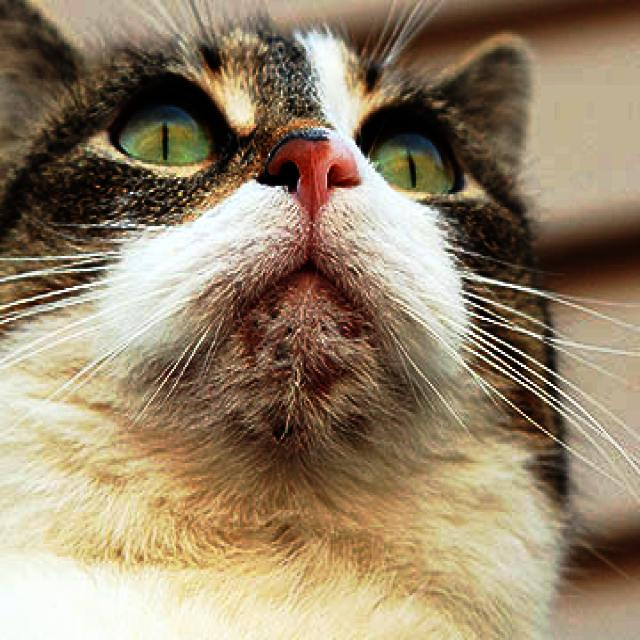acne: (251, 310, 330, 456)
